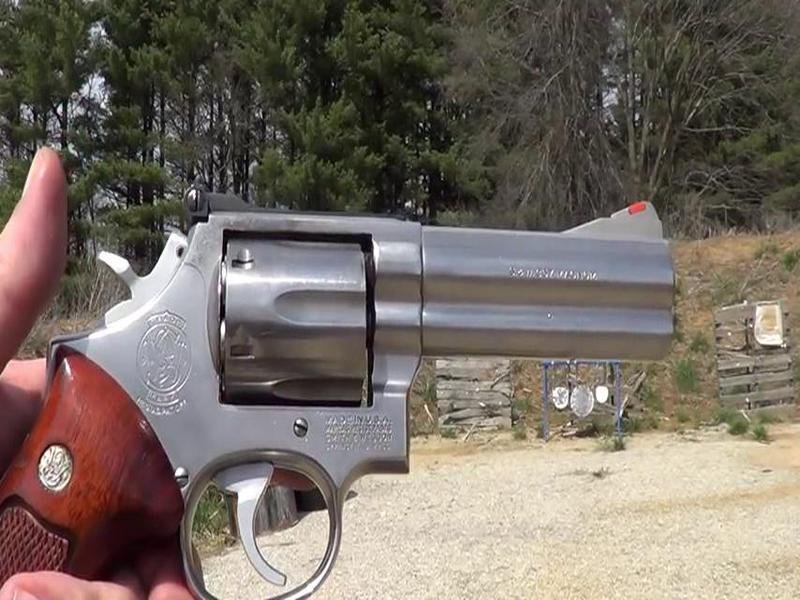Revolver: (39, 159, 680, 600)
